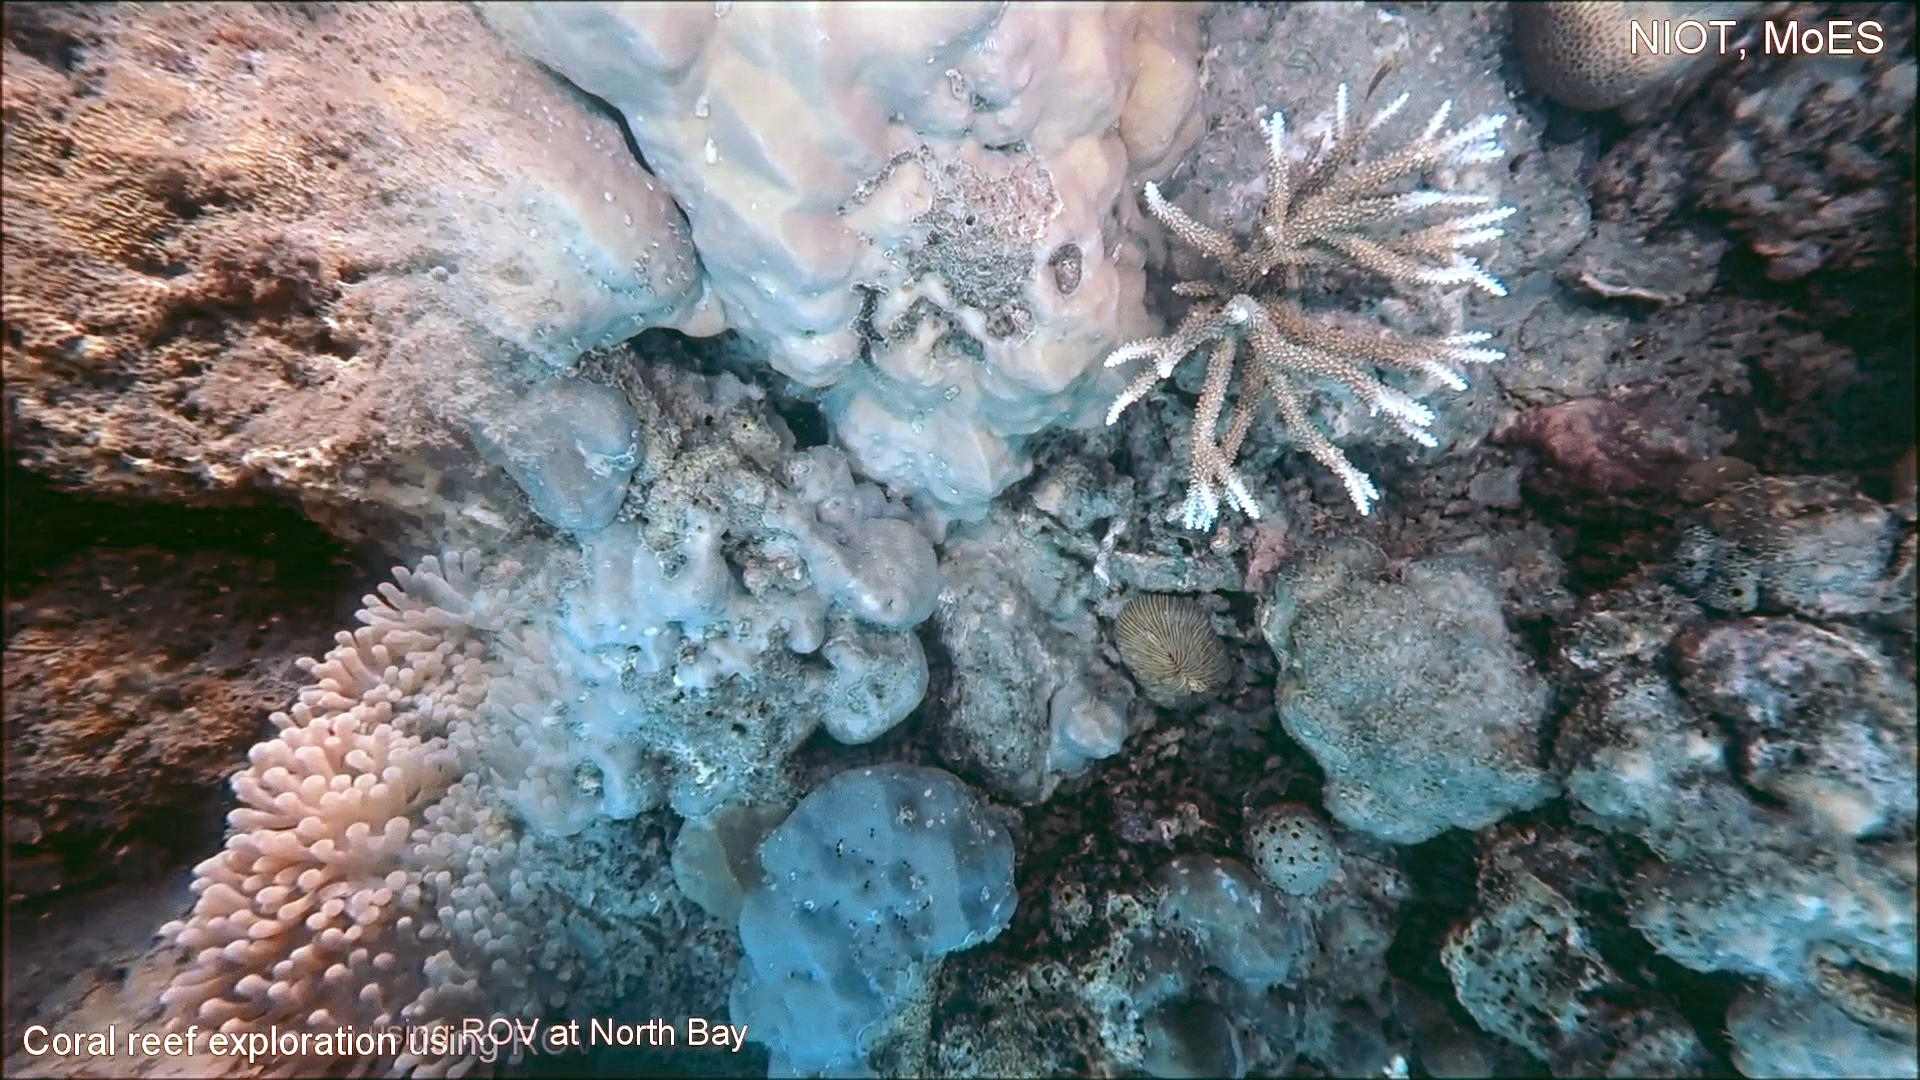Macrodactyla doreensis-Long tentacle Anemone: (152, 537, 550, 1080)
